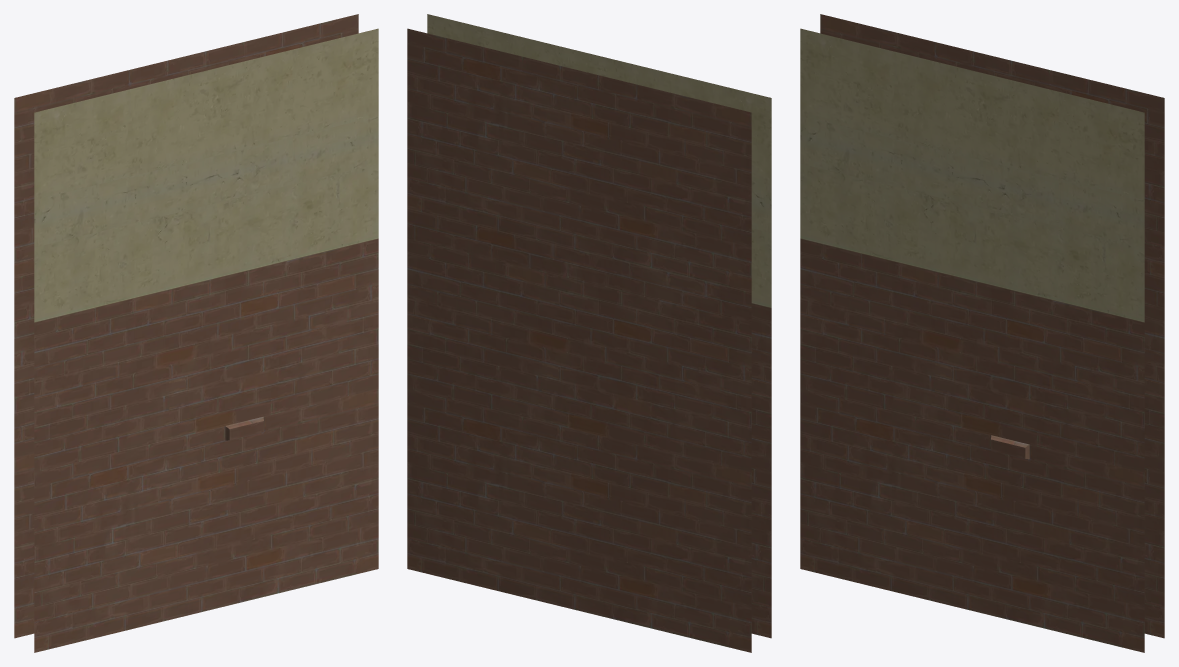
The model's file is Brick_HalfTrim.glb.
The picture shows the model from 3 angles, left to right: view 1: azimuth 30°, elevation 25°; view 2: azimuth 150°, elevation 25°; view 3: azimuth 330°, elevation 25°; orthographic projection.
Parts seen in each view (by area): view 1: Brick_HalfTrim; view 2: Brick_HalfTrim; view 3: Brick_HalfTrim.
Boxes of the visible parts, x1,y1,x2,y2 form: Brick_HalfTrim: (14, 14, 378, 652); Brick_HalfTrim: (407, 14, 771, 652); Brick_HalfTrim: (800, 14, 1164, 652).
Size of the model in its own units: 2 by 3 by 0.2247.
2 materials, 2 textured.
